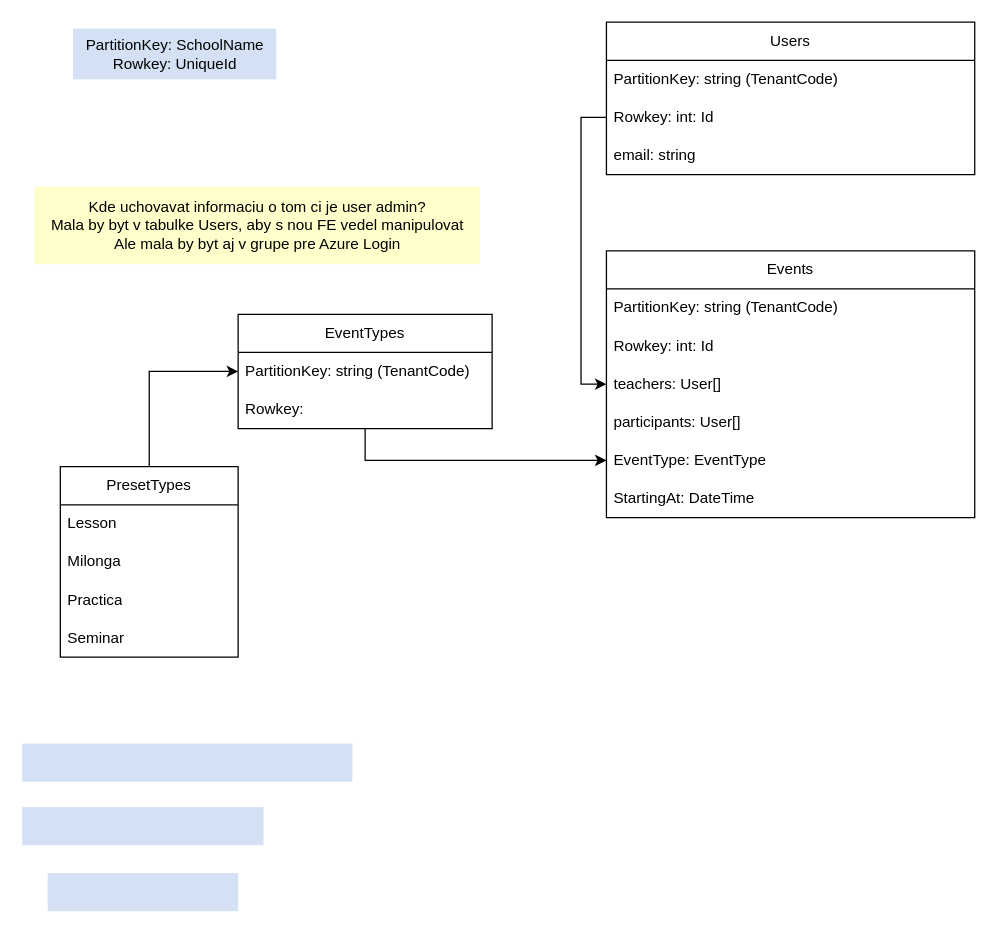
This 997x933 diagram has some shape labels left out. Here are the shapes that lost their labels. From the top down, the centre of each, then its label:
(x=187, y=762): Inicializovat tableClient rovno v constructore
(x=142, y=825): Mapovat iba pre get a controlleri
(x=142, y=891): TenantCode v controlleri
